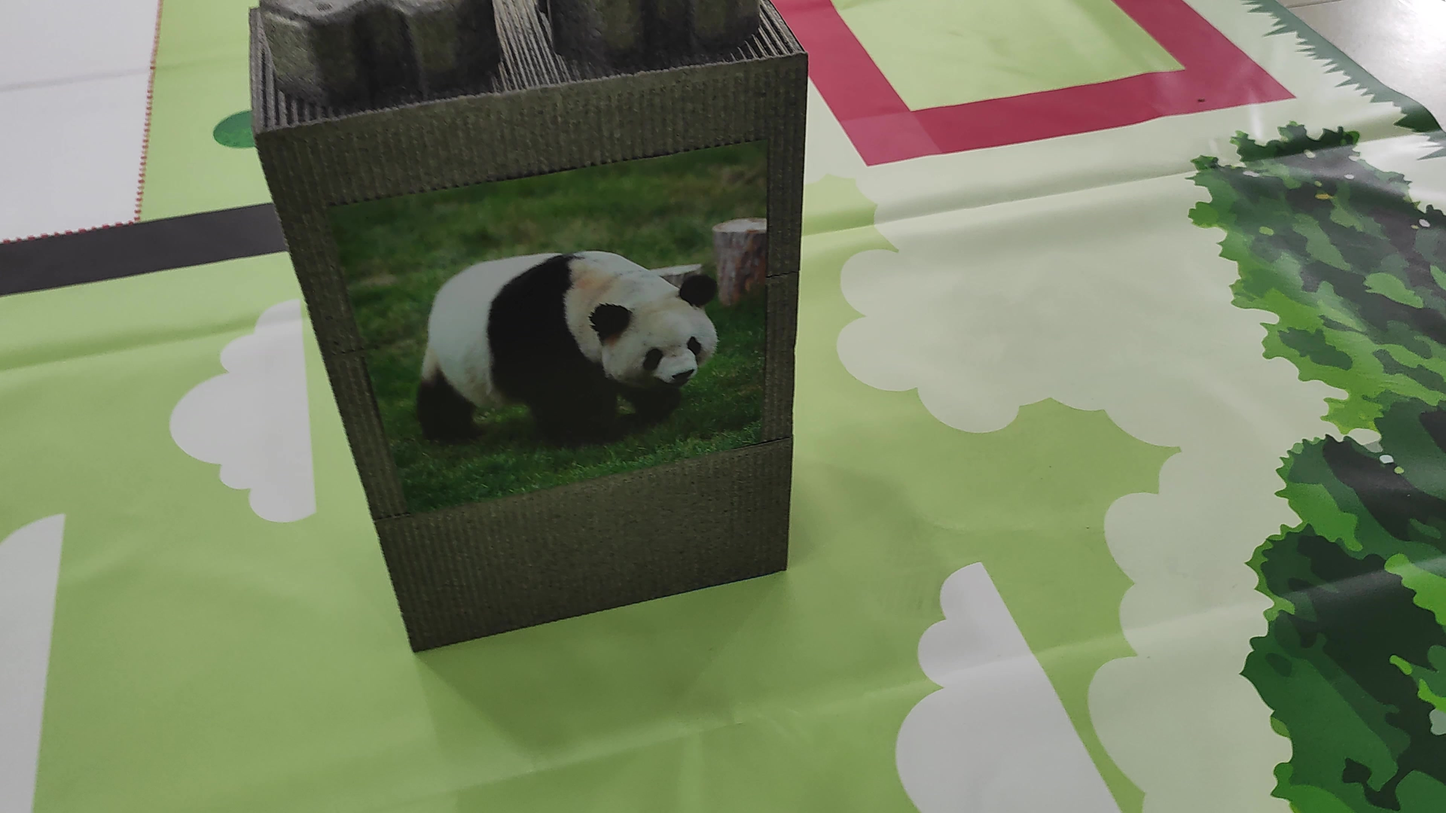panda: (387, 231, 734, 451)
